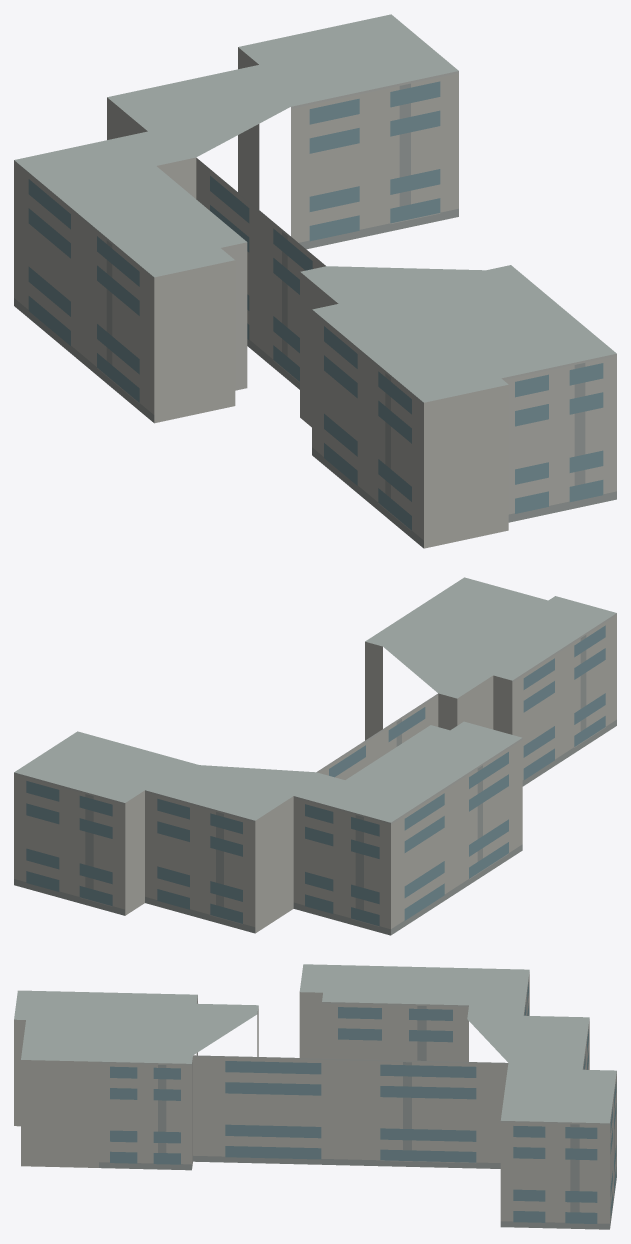
The model's file is residential-d21765d2-e8ae-4d50-8045-cdac7089a165.glb.
3 views of the same model, one above another, from view 1: azimuth 30°, elevation 25°; view 2: azimuth 150°, elevation 25°; view 3: azimuth 270°, elevation 25° (orthographic). The views are drawn at different scales.
Visible parts, largest first — view 1: residential-d21765d2-e8ae-4d50-8045-cdac7089a165.tmp; view 2: residential-d21765d2-e8ae-4d50-8045-cdac7089a165.tmp; view 3: residential-d21765d2-e8ae-4d50-8045-cdac7089a165.tmp.
Part boxes in pixels (bbox=[...]): residential-d21765d2-e8ae-4d50-8045-cdac7089a165.tmp: bbox=[14, 14, 616, 548]; residential-d21765d2-e8ae-4d50-8045-cdac7089a165.tmp: bbox=[14, 577, 616, 935]; residential-d21765d2-e8ae-4d50-8045-cdac7089a165.tmp: bbox=[14, 964, 616, 1229].
Size of the model in its own units: 48.95 by 15.25 by 78.37.
